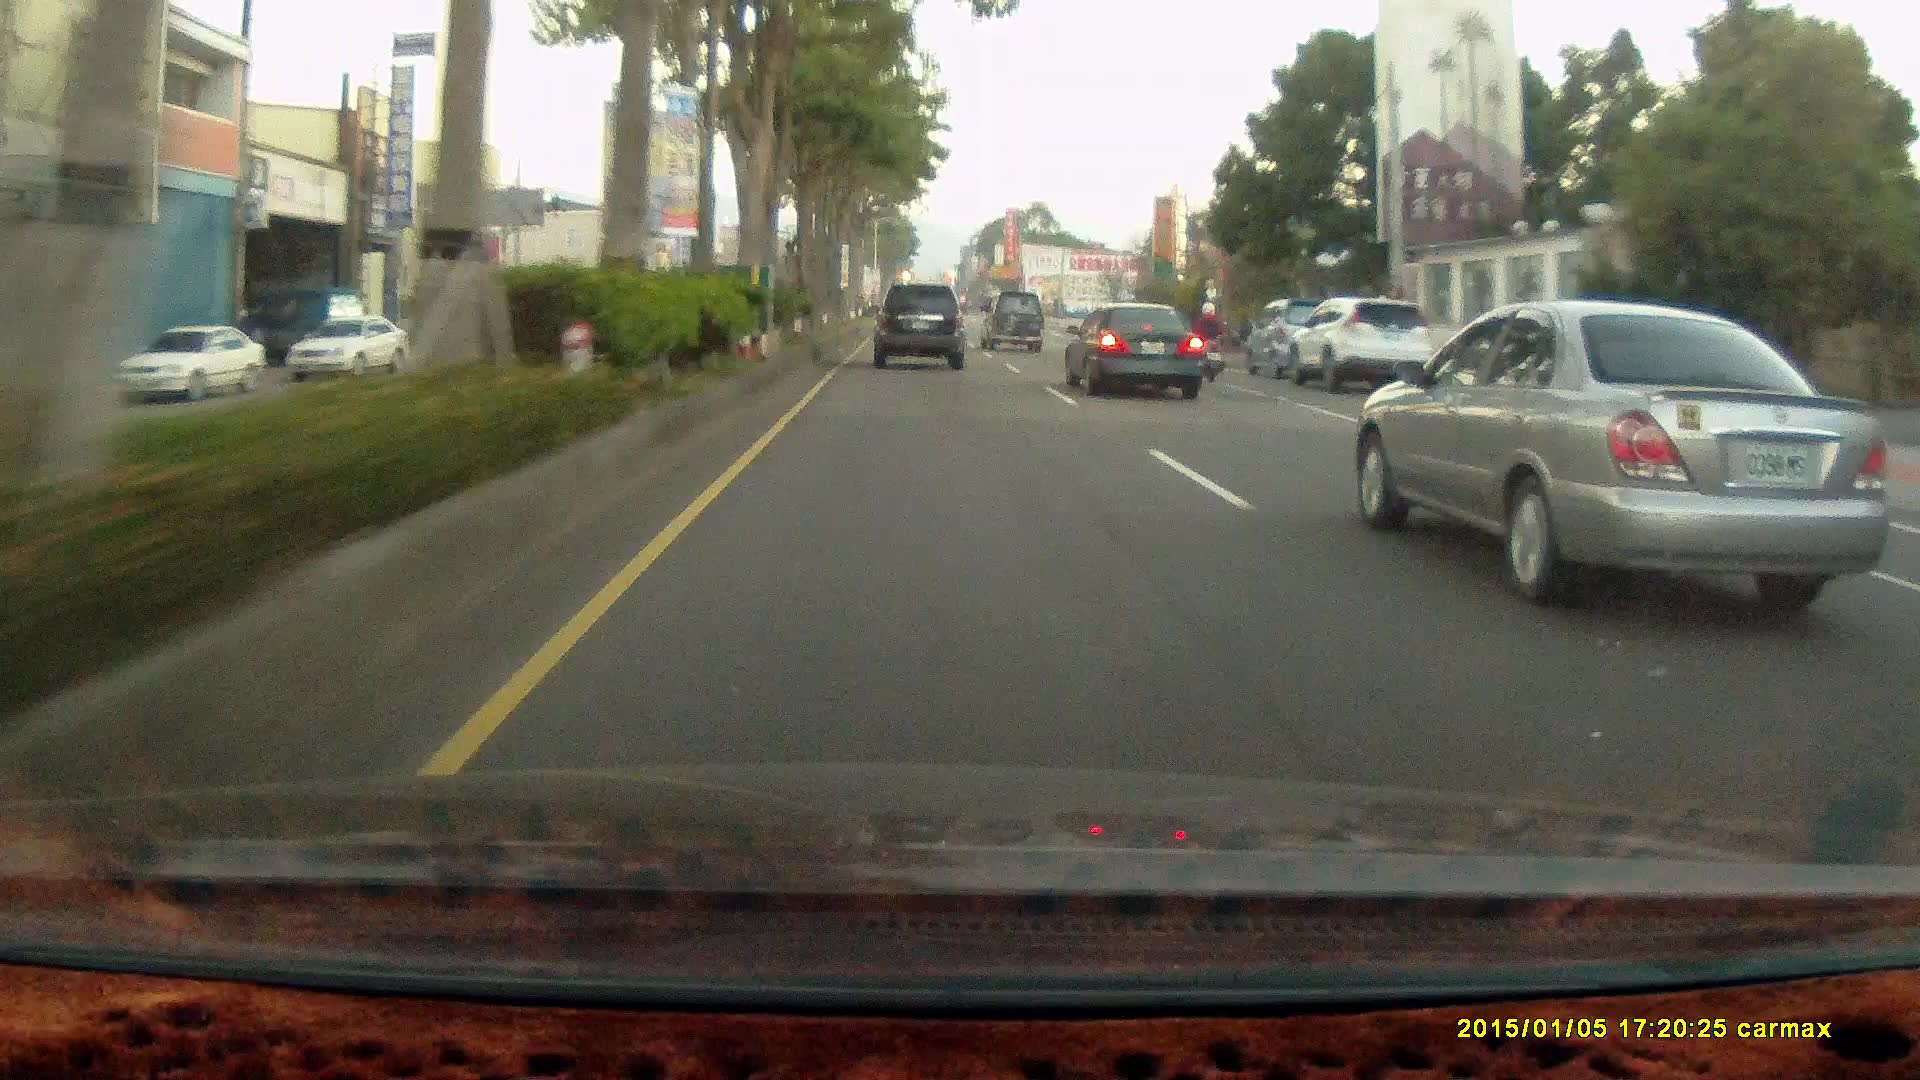rider: (1190, 298, 1227, 381)
vehicle: (1356, 299, 1891, 593), (1, 261, 115, 413), (1061, 301, 1204, 399), (1285, 296, 1433, 389), (1065, 301, 1210, 396), (1290, 302, 1436, 393), (115, 323, 262, 401), (120, 325, 265, 404), (870, 279, 971, 374), (1243, 296, 1348, 378), (868, 283, 964, 372), (288, 318, 411, 381), (982, 290, 1048, 356), (981, 290, 1041, 351)
